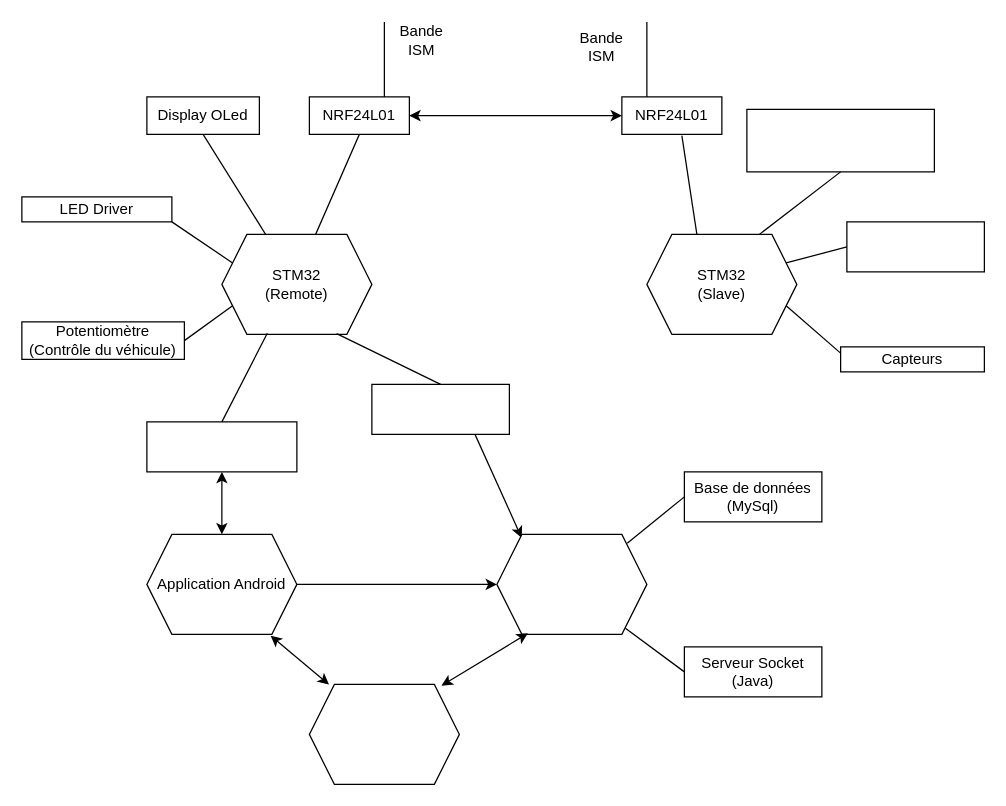
This 1006x806 diagram has some shape labels left out. The centre of each missing label's shape, as x and y in pixels:
"ESC 120A Contrôle du moteur et Servo" goes at (840,140).
"GPRS SIM28 (GPS Module)" goes at (915,246).
"GSM SIM800 (2G Module)" goes at (440,408).
"HC-05 (Bluetooth Module" goes at (221,446).
"PedaWeb (HTML,PHP,CSS,JS CHART.JS)" goes at (383,733).
"Raspberry 3B" goes at (571,583).
